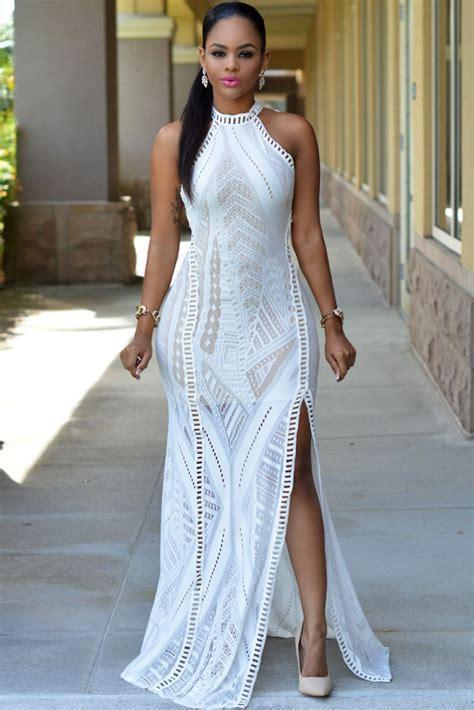dress: (122, 105, 389, 710)
